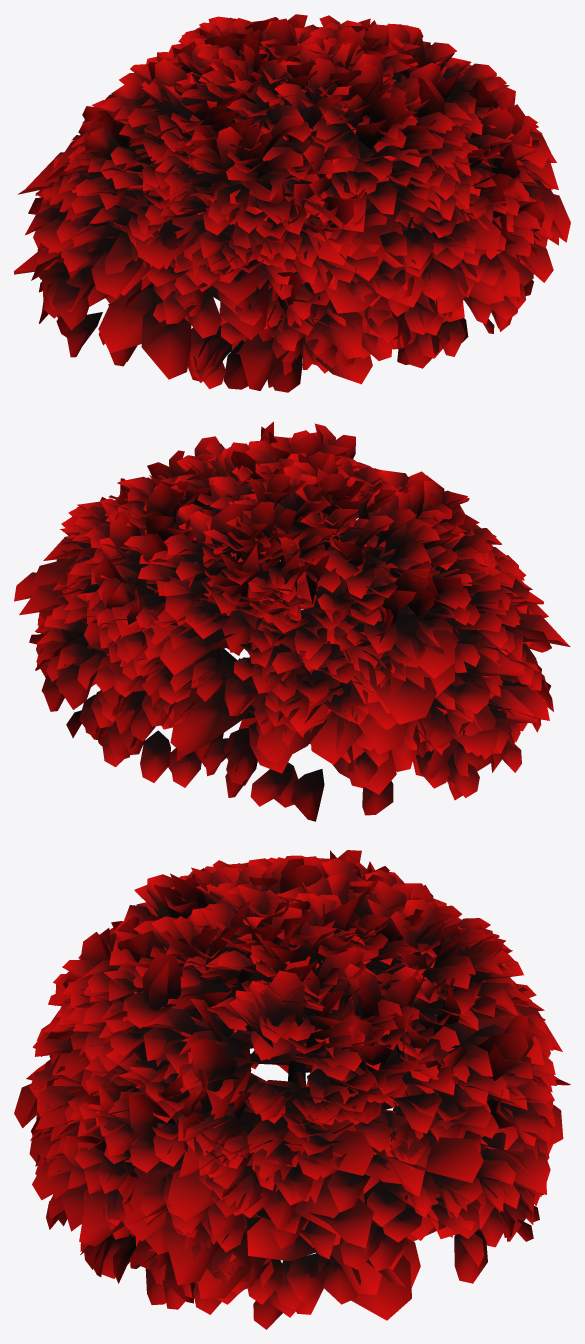
File: SM_Bush_04.FBX
The picture shows the model from 3 angles, top to bottom: view 1: azimuth 30°, elevation 25°; view 2: azimuth 150°, elevation 25°; view 3: azimuth 270°, elevation 25°; orthographic projection. The views are drawn at different scales.
Parts seen in each view (by area): view 1: SM_Bush_04_LOD0; view 2: SM_Bush_04_LOD0; view 3: SM_Bush_04_LOD0.
Boxes of the visible parts, bbox=[...] form: SM_Bush_04_LOD0: bbox=[14, 14, 570, 392]; SM_Bush_04_LOD0: bbox=[14, 421, 570, 821]; SM_Bush_04_LOD0: bbox=[14, 850, 570, 1329].
Size of what is drawn, in the model's own units: 155 by 125 by 83.27.
